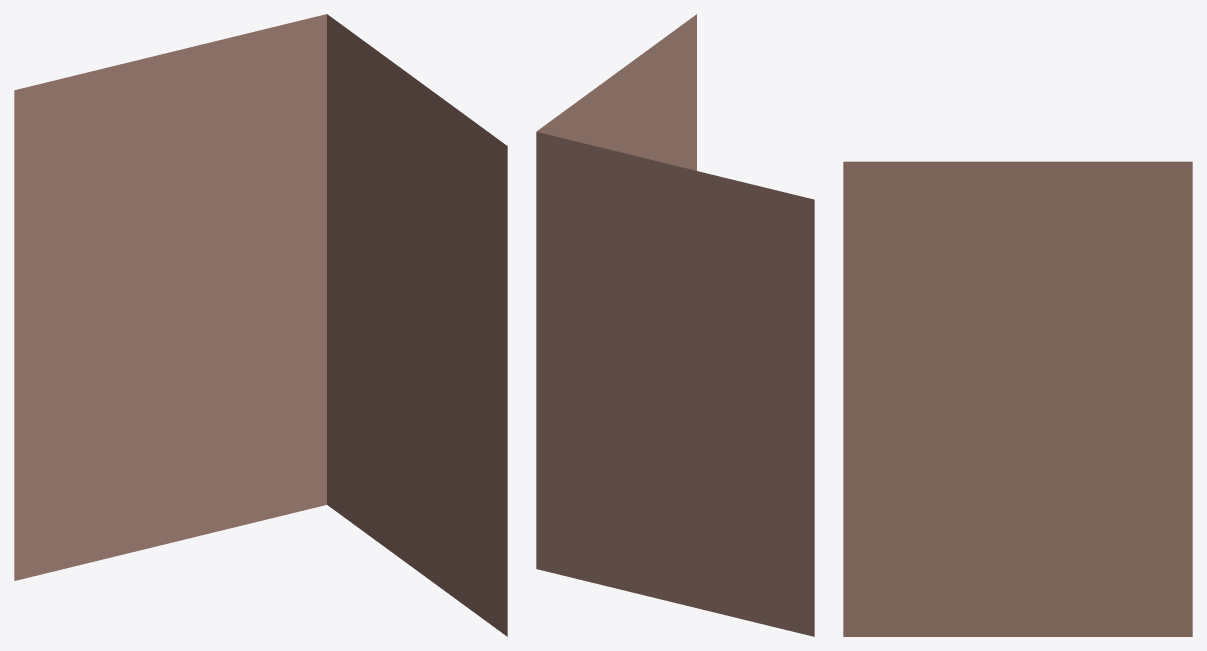
Rendered from InnerCorner.glb.
3 renders of one model, left to right at view 1: azimuth 30°, elevation 25°; view 2: azimuth 150°, elevation 25°; view 3: azimuth 270°, elevation 25°, orthographic. The views are drawn at different scales.
Visible parts, largest first — view 1: PBK_Brick_InnerCorner_Exterior_Surface.001; view 2: PBK_Brick_InnerCorner_Exterior_Surface.001; view 3: PBK_Brick_InnerCorner_Exterior_Surface.001.
Part boxes in pixels (x1,y1,x2,y2): PBK_Brick_InnerCorner_Exterior_Surface.001: (14,14,507,636); PBK_Brick_InnerCorner_Exterior_Surface.001: (536,14,814,636); PBK_Brick_InnerCorner_Exterior_Surface.001: (843,161,1192,636).
Bounding box in the file's own units: 2 × 3 × 2.
